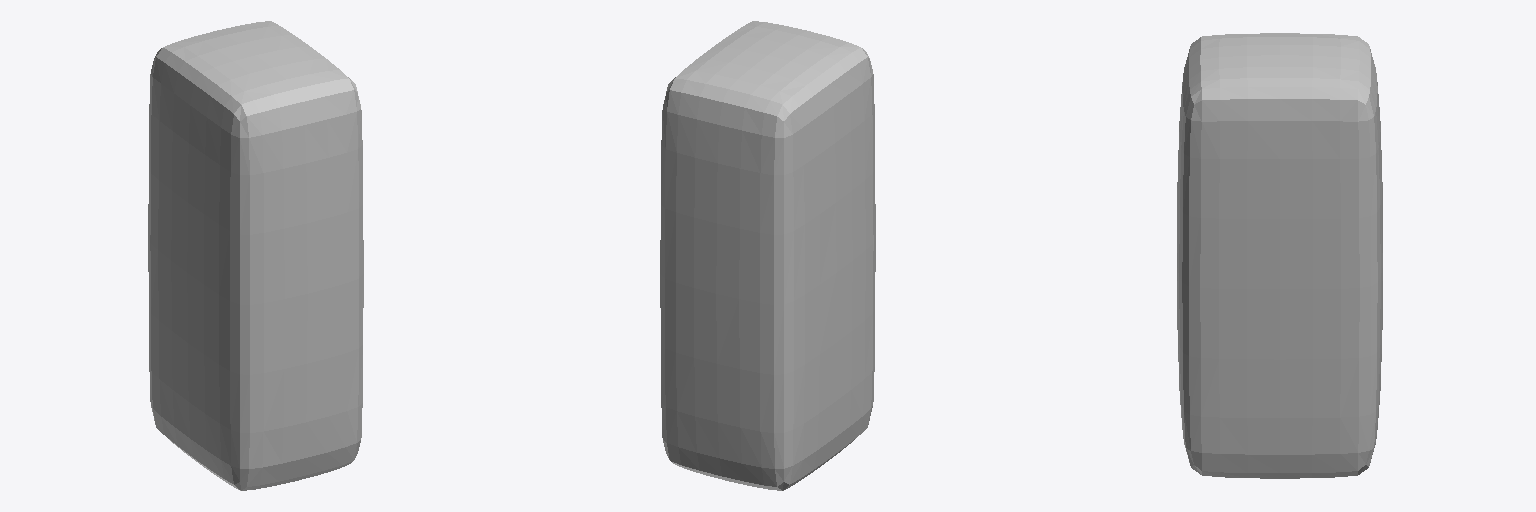
The model's file is leg3.obj.
3 views of the same model, side by side, from view 1: azimuth 30°, elevation 25°; view 2: azimuth 150°, elevation 25°; view 3: azimuth 270°, elevation 25° (orthographic).
Parts seen in each view (by area): view 1: polySurface8 pCube15; view 2: polySurface8 pCube15; view 3: polySurface8 pCube15.
Boxes of the visible parts, x1=… form: polySurface8 pCube15: x1=148, y1=21, x2=363, y2=490; polySurface8 pCube15: x1=660, y1=21, x2=875, y2=490; polySurface8 pCube15: x1=1177, y1=33, x2=1382, y2=478.
Bounding box in the file's own units: 0.76 × 2.13 × 0.9908.